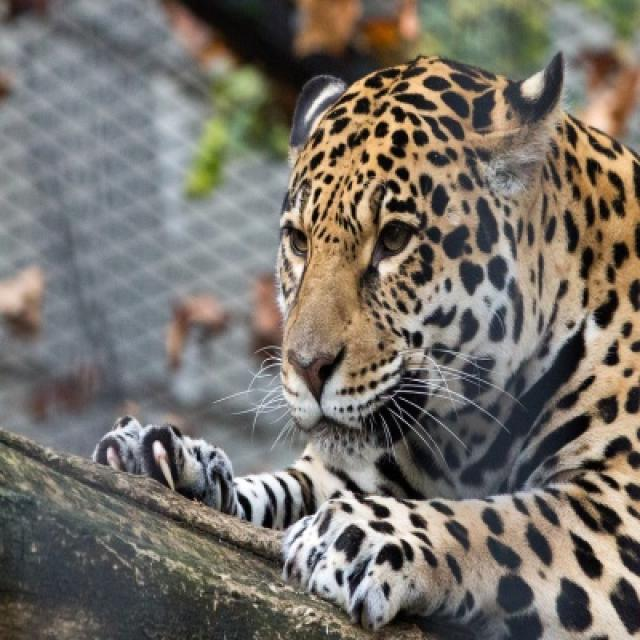Jaguar: (93, 54, 638, 638)
